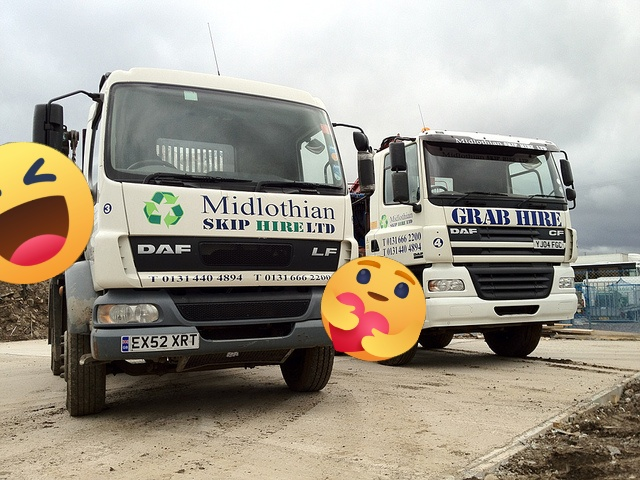care: (321, 256, 426, 361)
haha: (0, 142, 94, 284)
